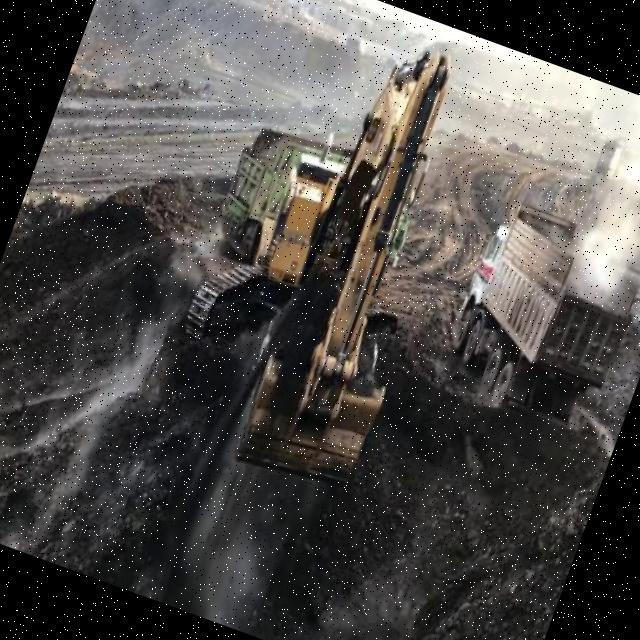Dump Truck: (432, 191, 640, 438), (592, 133, 626, 179)
Excavator: (144, 0, 502, 502)
